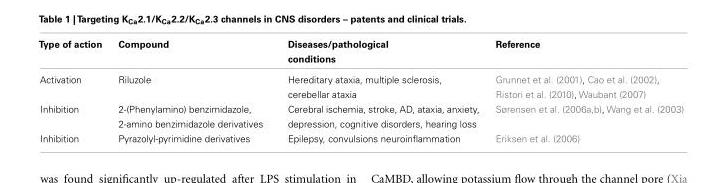table: (37, 37, 683, 143)
table column: (274, 37, 486, 143), (486, 37, 683, 143), (109, 37, 274, 143), (37, 37, 109, 143)
table column header: (37, 37, 683, 68)
table row: (37, 68, 683, 100), (37, 37, 683, 68), (37, 100, 683, 130), (37, 130, 683, 143)
